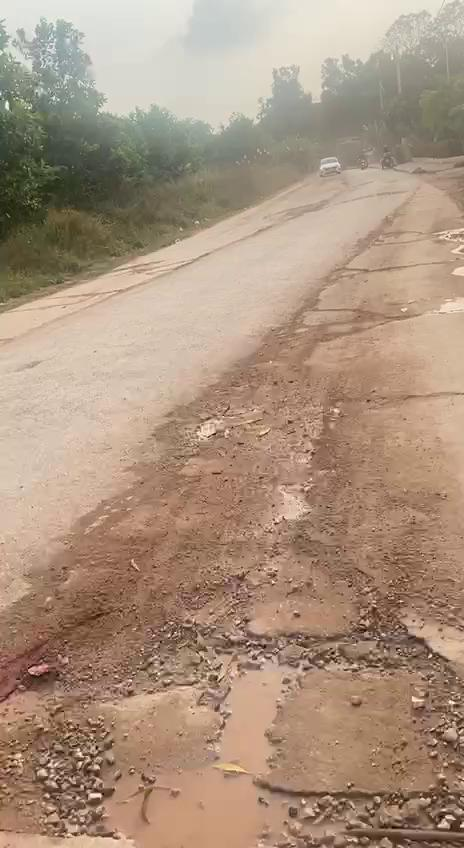pothole: (55, 607, 464, 848)
